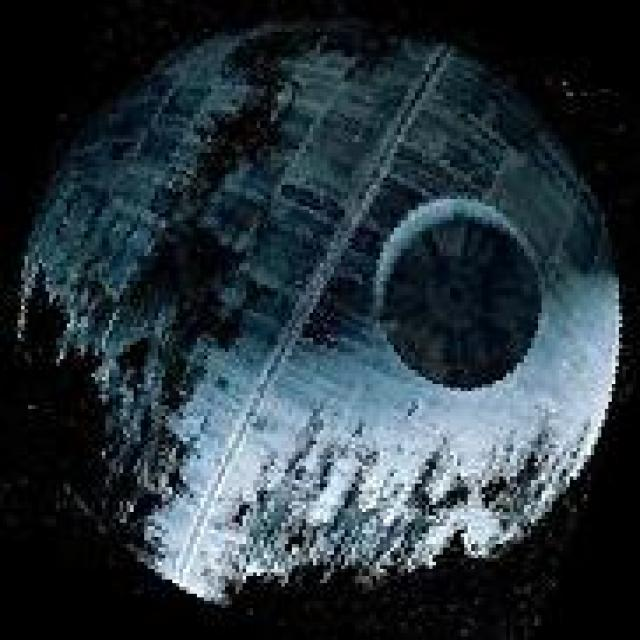Death Star: (7, 4, 633, 608)
